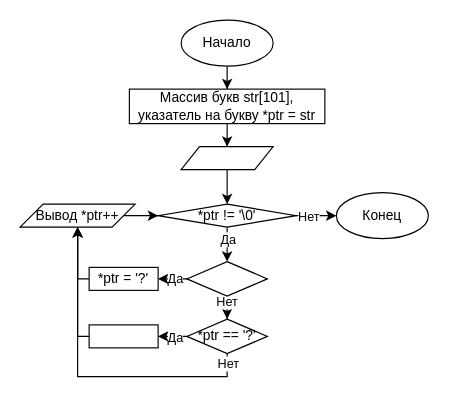
Image size: 449x406. Some labels were removed from this diagram. Each missing label, with the centre of its shape:
*ptr = '!': (x=123, y=336)
*ptr == '!': (x=226, y=278)
Ввод str: (x=226, y=157)
